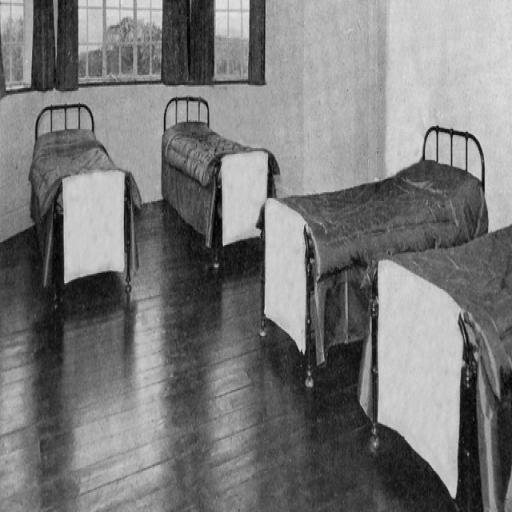bed: (270, 124, 496, 274), (24, 91, 142, 365), (164, 80, 284, 302)
